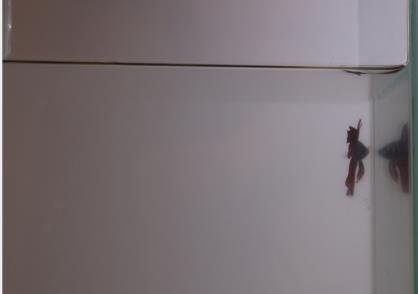fish: (341, 118, 372, 199)
